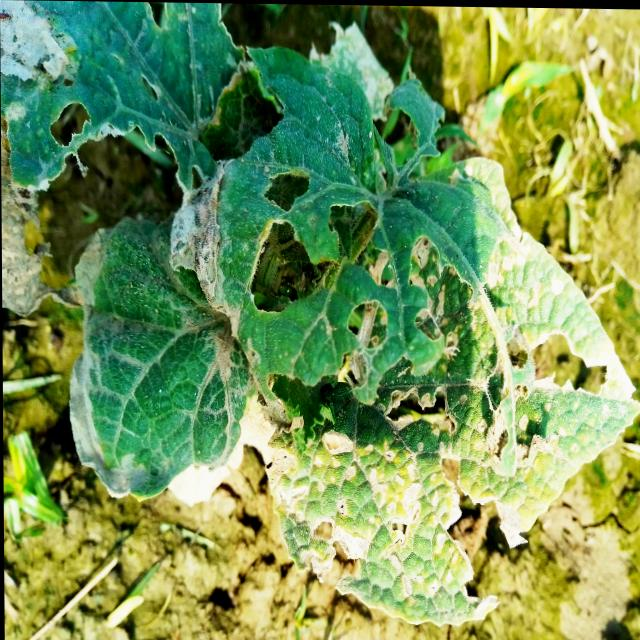Anthracnose: (246, 165, 400, 403), (530, 333, 609, 400), (43, 92, 94, 147)
